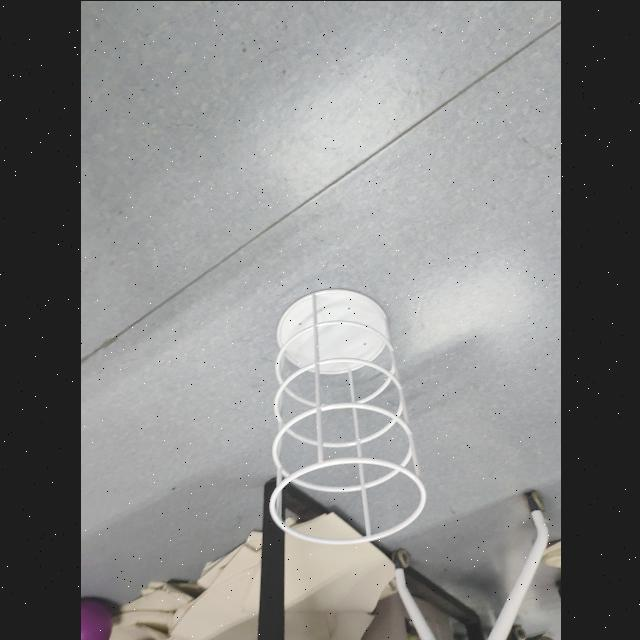S: (263, 284, 429, 548)
